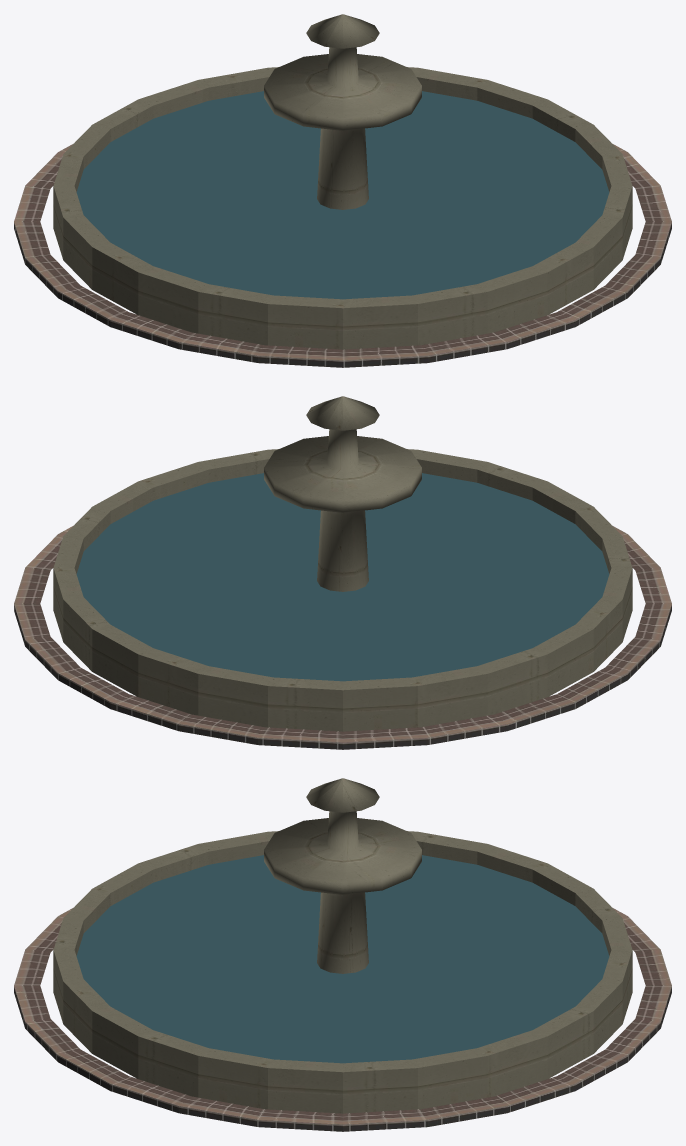
Rendered from fountain.glb.
3 views of the same model, one above another, from view 1: azimuth 30°, elevation 25°; view 2: azimuth 150°, elevation 25°; view 3: azimuth 270°, elevation 25° (orthographic).
Parts seen in each view (by area): view 1: fountain_body; view 2: fountain_body; view 3: fountain_body.
Boxes of the visible parts, left/top/right/bottom form: fountain_body: left=14, top=14, right=671, bottom=367; fountain_body: left=14, top=396, right=671, bottom=749; fountain_body: left=14, top=778, right=671, bottom=1131.
Size of the model in its own units: 0.25 by 0.09 by 0.25.
Materials: 3 (2 with a texture image).
